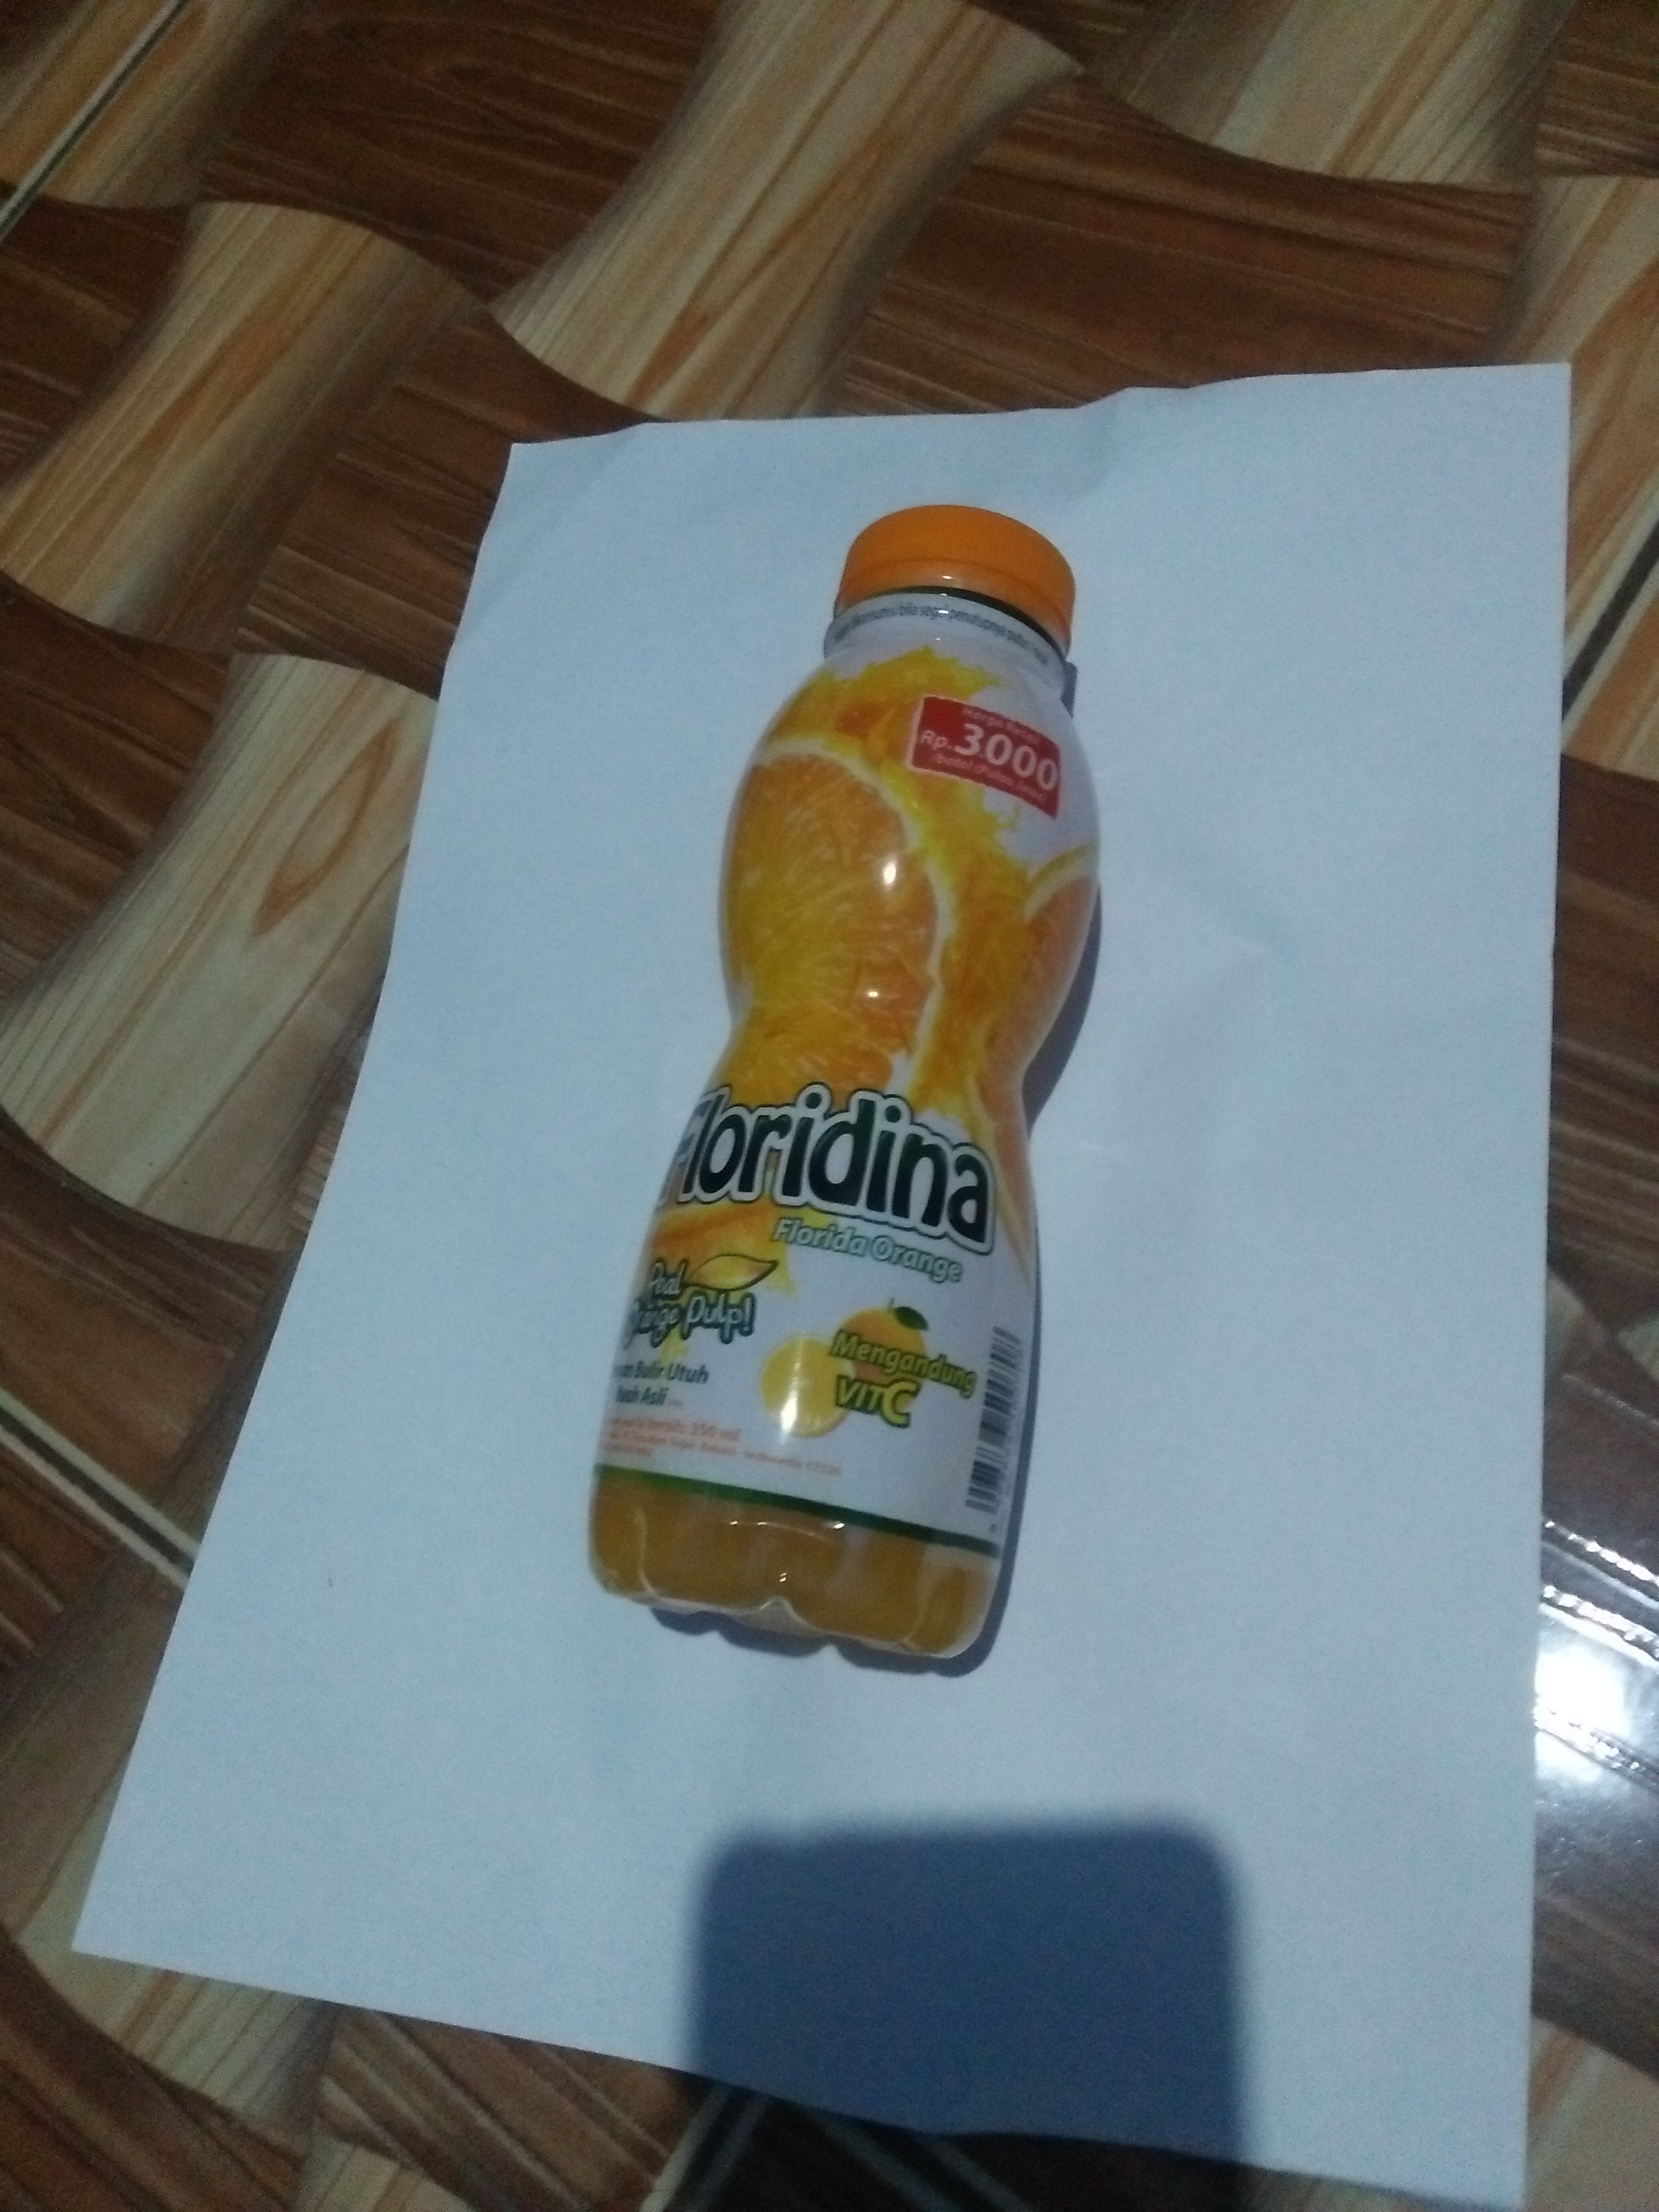Floridina: (598, 482, 1117, 1693)
